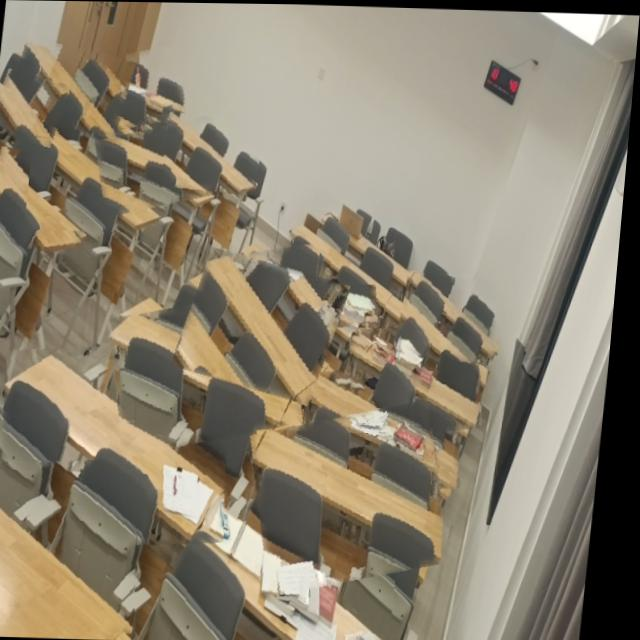Non-empty: (12, 348, 235, 542), (202, 500, 393, 640), (313, 372, 468, 487), (356, 328, 487, 425), (239, 252, 383, 323), (327, 210, 419, 284), (74, 62, 187, 119)
empty: (262, 429, 453, 561), (116, 314, 306, 426), (0, 499, 144, 636), (210, 252, 325, 399), (37, 131, 164, 232), (0, 147, 83, 251), (27, 41, 118, 134), (412, 271, 502, 364), (98, 135, 226, 196), (170, 113, 258, 192), (0, 69, 55, 140)
